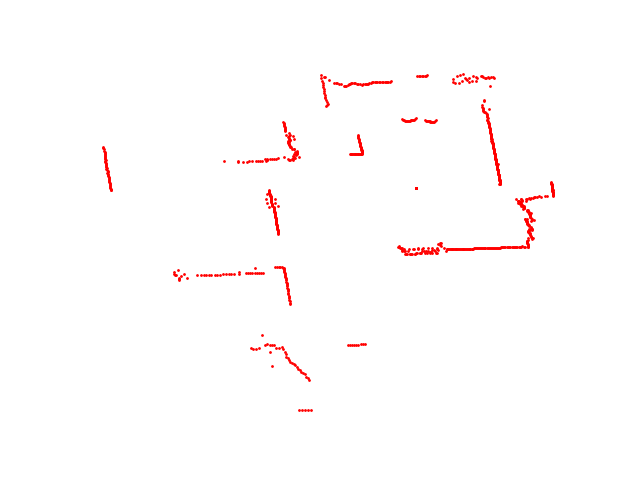person: (399, 115, 440, 126)
